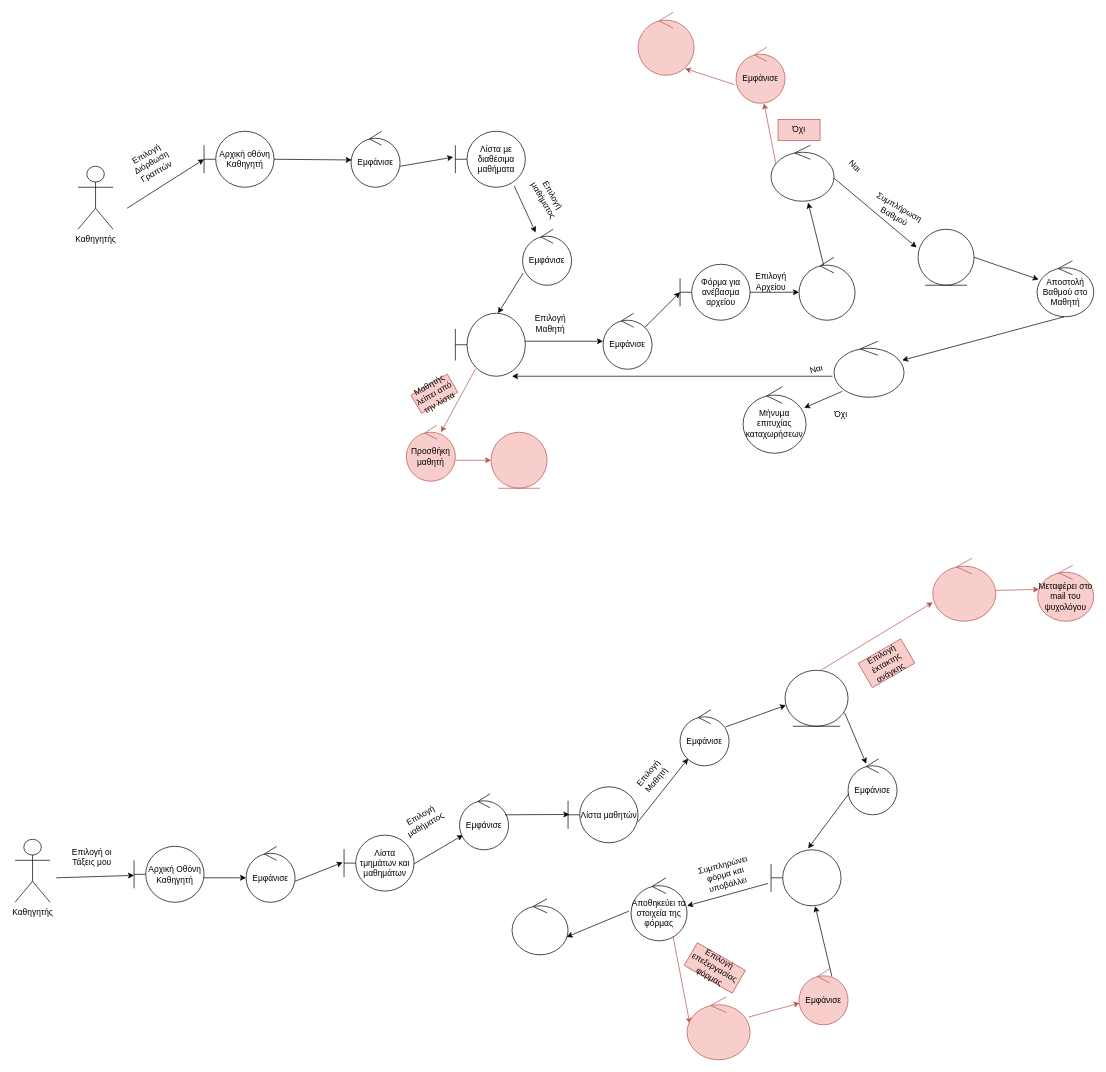
Image size: 1106x1072. Some labels were removed from this diagram. The box of each missing label's shape, as (x1, y1, x2, y2) in pixels:
Ανέβασμα αρχείου από το σύστημα: (798, 257, 855, 320)
Αναστέλλεται η αποθήκευση: (686, 996, 750, 1060)
Βαθμός: (917, 229, 974, 285)
Είναι μέσα στα όρια μεγέθους ;: (770, 145, 834, 201)
Κλειδώνει η επιλογή συμπλήρωσης φόρμας: (932, 558, 996, 621)
Λίστα με στοιχεία μαθητών: (455, 313, 525, 376)
Μήνυμα αποτυχίας: (637, 12, 694, 75)
Μήνυμα συνέχισης καταχώρησης: (833, 341, 904, 397)
Μαθητές: (490, 432, 547, 488)
Μεταφέρει στο mail του μαθητή: (511, 898, 568, 955)
Πληροφορίες για κατάσταση μαθητή: (784, 670, 848, 726)
Φόρμα Συμπλήρωσης πληροφοριών: (770, 849, 841, 906)
